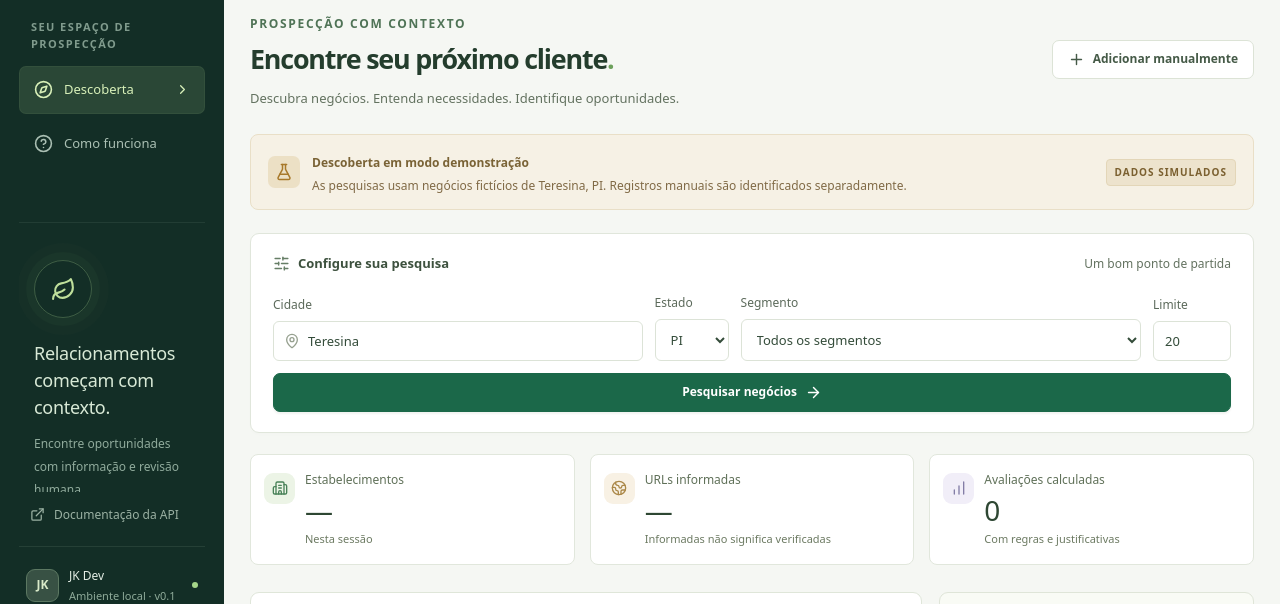
Scenario: primeira versão do dashboard › coloca erro de pontuação junto da ação e verifica a conexão novamente
The image size is (1280, 604).
Step 1. Click the button "Pesquisar negócios" → (752, 392), box [273, 373, 1231, 412]
(page scrolled)
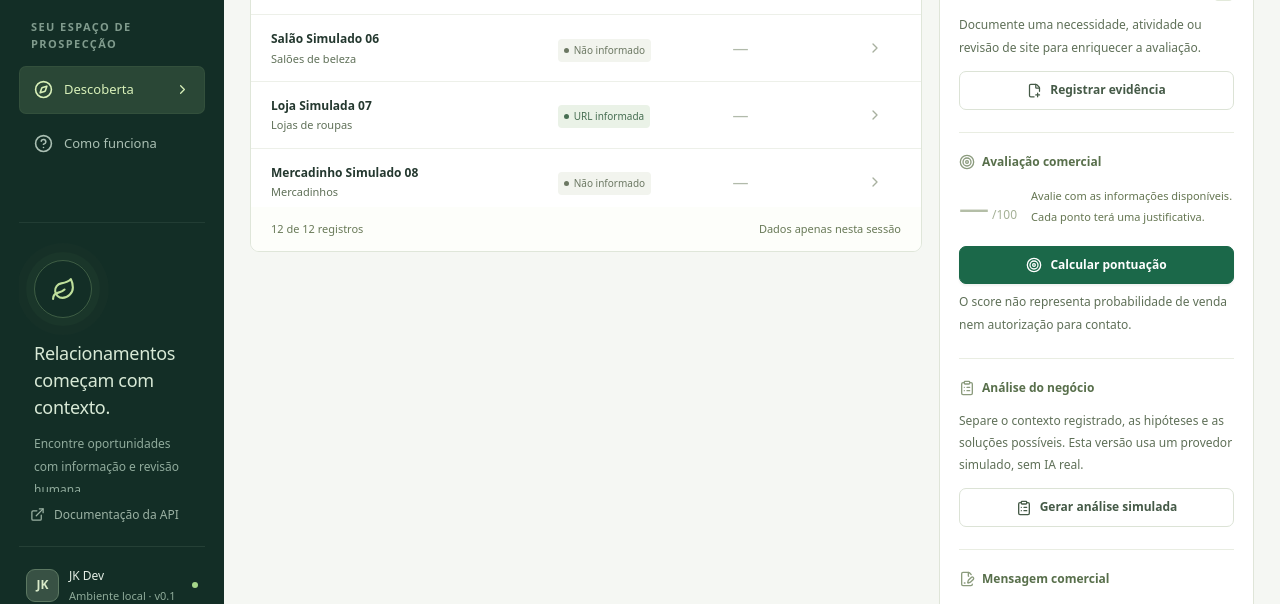
Step 2. Click the button "Calcular pontuação" → (1096, 265), box [959, 246, 1234, 284]
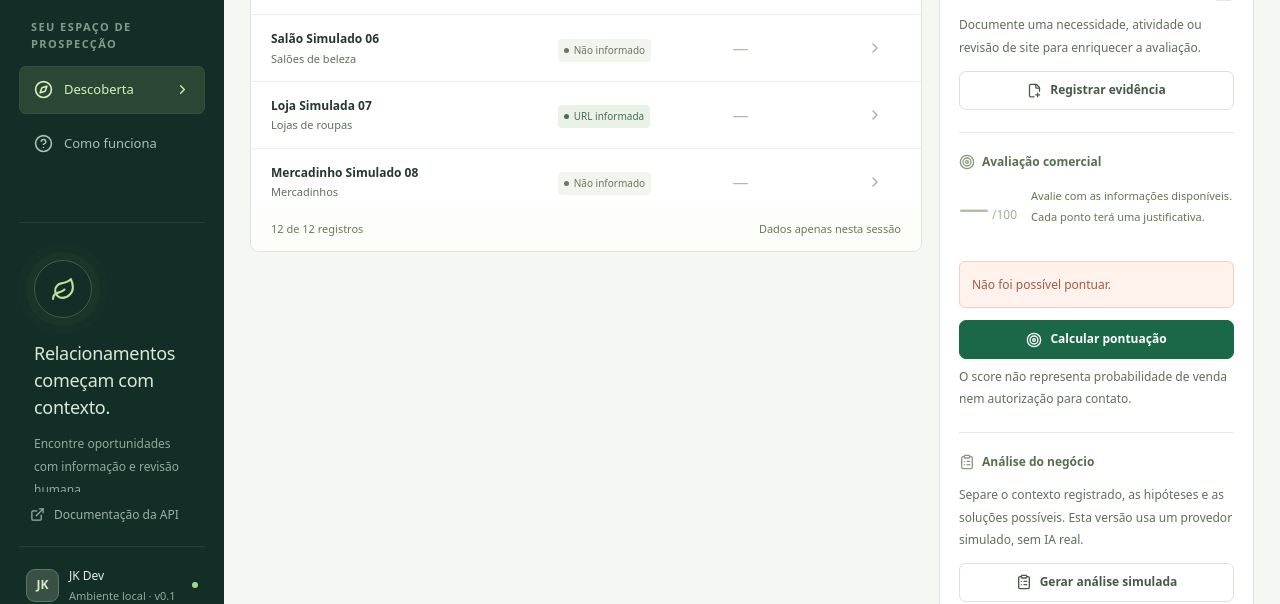
Now the element that starts with "Avaliação comercial" is shown, box [959, 132, 1234, 410]
Now the message shows "Não foi possível pontuar", box [972, 276, 1111, 292]
